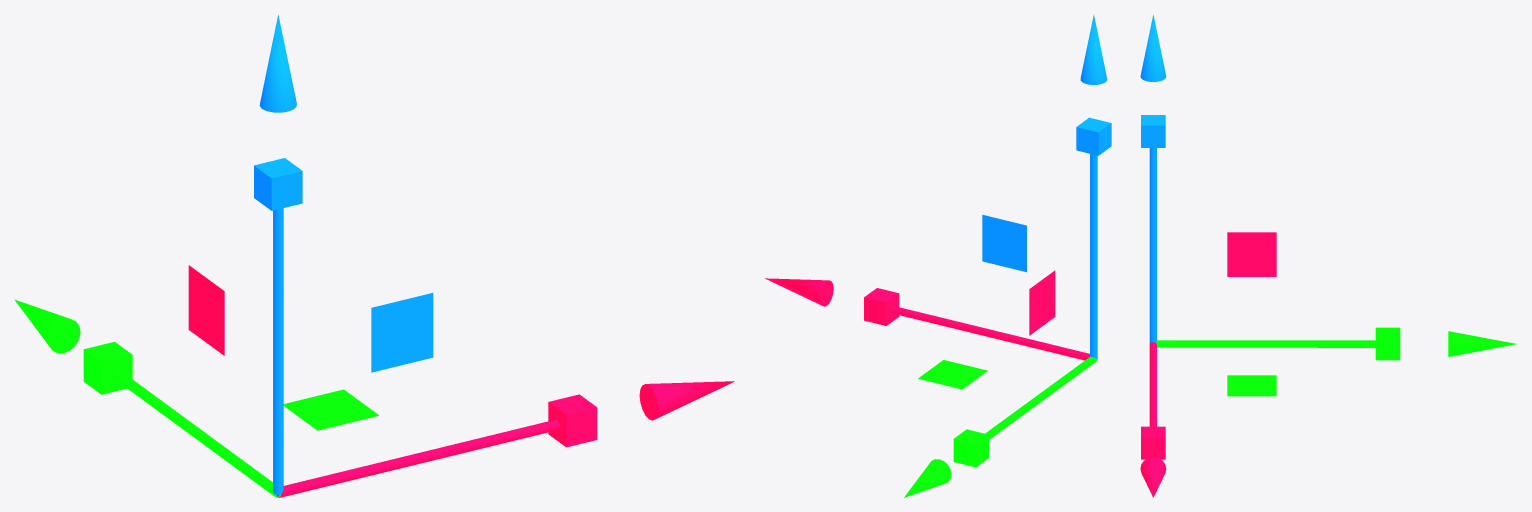
Rendered from tdme_gizmo_transscale.fbx.
3 views of the same model, side by side, from view 1: azimuth 30°, elevation 25°; view 2: azimuth 150°, elevation 25°; view 3: azimuth 270°, elevation 25° (orthographic). The views are drawn at different scales.
Parts seen in each view (by area): view 1: scale_x, scale_z, scale_y, scale_z_plane, scale_x_plane, scale_y_plane, all_translate_z, all_translate_x, all_translate_y; view 2: scale_x, scale_z, scale_y, scale_z_plane, scale_x_plane, scale_y_plane, all_translate_z, all_translate_x, all_translate_y; view 3: scale_y, scale_z, scale_x_plane, scale_x, scale_y_plane, all_translate_z, all_translate_y, all_translate_x.
Part boxes in pixels (x1=…): scale_x: x1=276, y1=394, x2=597, y2=497; scale_z: x1=254, y1=158, x2=302, y2=494; scale_y: x1=83, y1=341, x2=280, y2=497; scale_z_plane: x1=371, y1=293, x2=433, y2=372; scale_x_plane: x1=188, y1=265, x2=224, y2=355; scale_y_plane: x1=283, y1=389, x2=378, y2=430; all_translate_z: x1=259, y1=15, x2=296, y2=112; all_translate_x: x1=639, y1=381, x2=734, y2=420; all_translate_y: x1=14, y1=299, x2=80, y2=353; scale_x: x1=864, y1=288, x2=1090, y2=360; scale_z: x1=1076, y1=117, x2=1111, y2=359; scale_y: x1=953, y1=356, x2=1096, y2=467; scale_z_plane: x1=982, y1=214, x2=1026, y2=272; scale_x_plane: x1=1029, y1=270, x2=1055, y2=335; scale_y_plane: x1=918, y1=360, x2=987, y2=389; all_translate_z: x1=1080, y1=14, x2=1107, y2=84; all_translate_x: x1=765, y1=278, x2=833, y2=306; all_translate_y: x1=904, y1=459, x2=951, y2=497; scale_y: x1=1156, y1=327, x2=1400, y2=360; scale_z: x1=1141, y1=115, x2=1165, y2=343; scale_x_plane: x1=1227, y1=232, x2=1276, y2=276; scale_x: x1=1141, y1=342, x2=1165, y2=459; scale_y_plane: x1=1227, y1=375, x2=1276, y2=396; all_translate_z: x1=1140, y1=15, x2=1166, y2=81; all_translate_y: x1=1448, y1=331, x2=1516, y2=356; all_translate_x: x1=1140, y1=457, x2=1166, y2=497.
Size of the model in its own units: 153 by 153 by 153.
